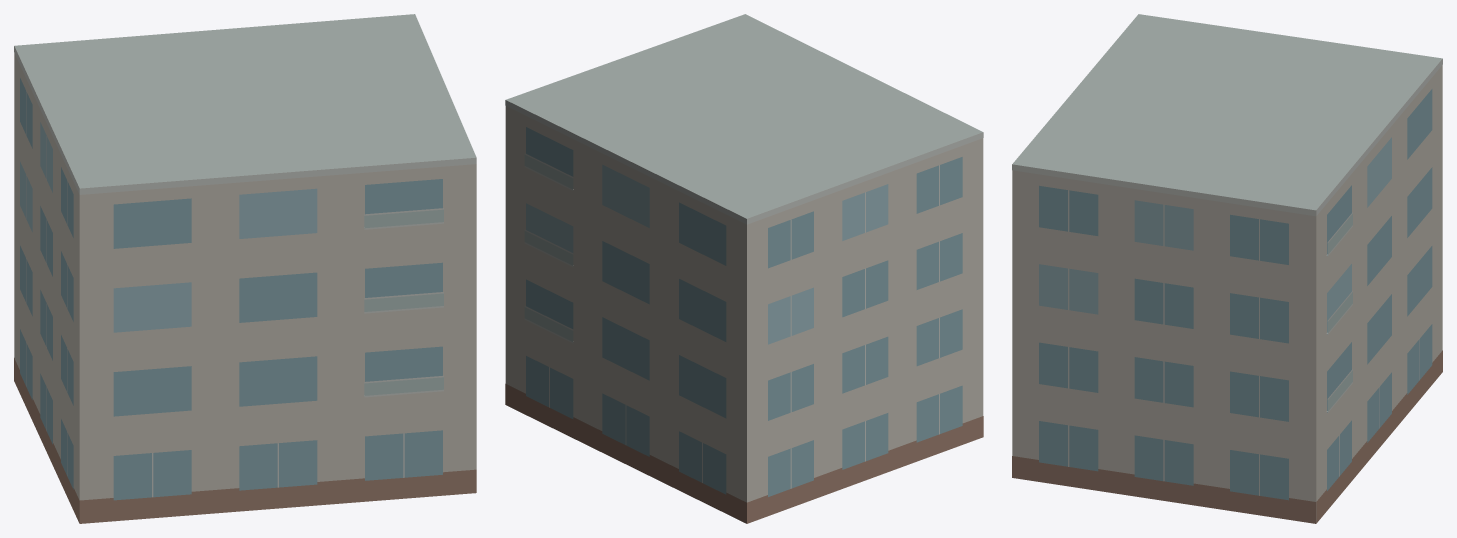
Rendered from survey-upis-33030943.glb.
The picture shows the model from 3 angles, left to right: view 1: azimuth 30°, elevation 25°; view 2: azimuth 150°, elevation 25°; view 3: azimuth 270°, elevation 25°; orthographic projection. The views are drawn at different scales.
Parts seen in each view (by area): view 1: survey-upis-33030943.tmp; view 2: survey-upis-33030943.tmp; view 3: survey-upis-33030943.tmp.
Part boxes in pixels (left/top/right/bottom): survey-upis-33030943.tmp: left=14, top=14, right=476, bottom=523; survey-upis-33030943.tmp: left=505, top=14, right=983, bottom=523; survey-upis-33030943.tmp: left=1012, top=14, right=1442, bottom=523.
Size of the model in its own units: 17.21 by 12.8 by 15.95.
